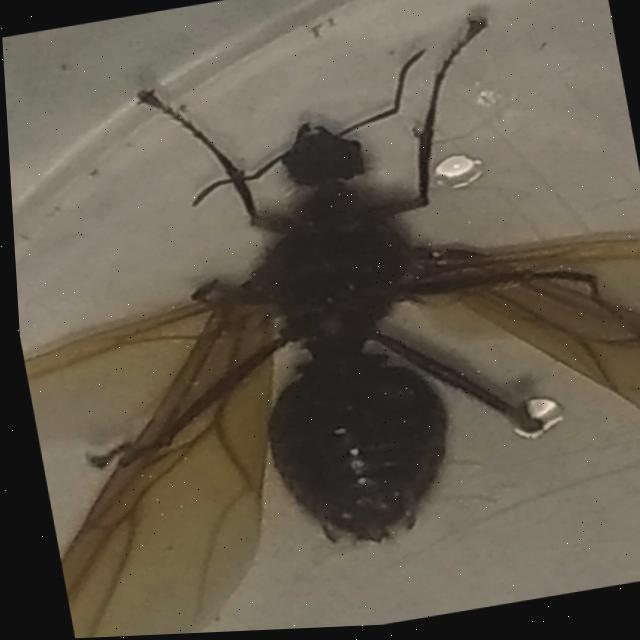Dead-Male-Alate: (1, 0, 640, 640)
